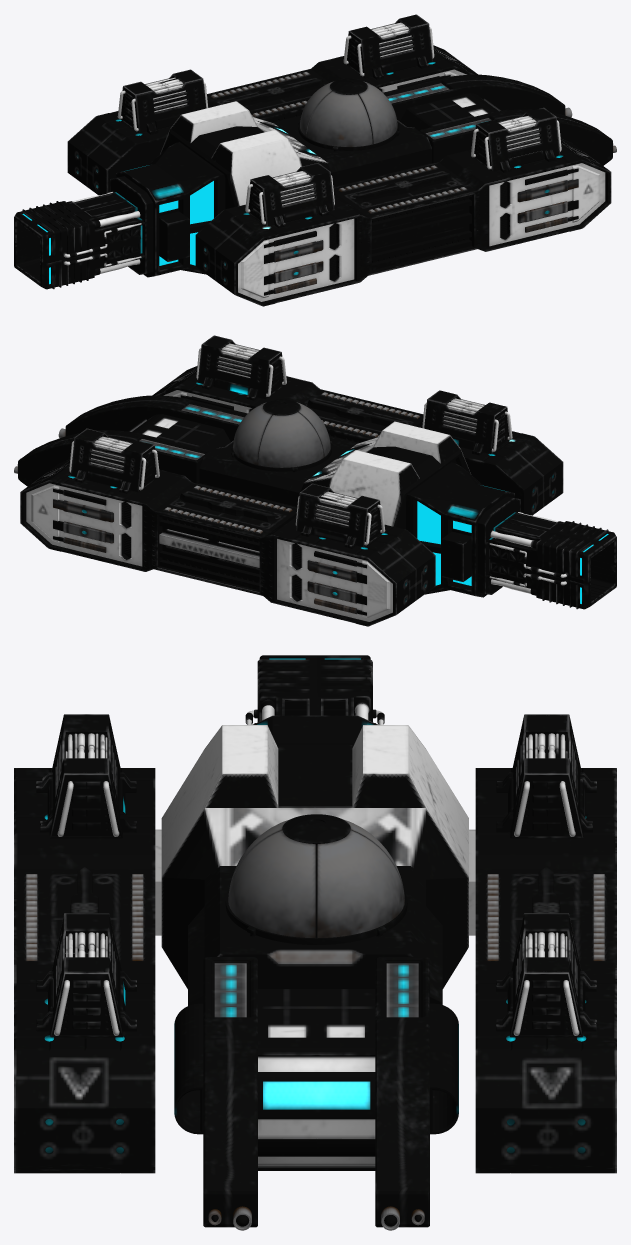
File: NVEEEEE.glb
3 renders of one model, top to bottom at view 1: azimuth 30°, elevation 25°; view 2: azimuth 150°, elevation 25°; view 3: azimuth 270°, elevation 25°, orthographic. The views are drawn at different scales.
Parts seen in each view (by area): view 1: Space_Ship_01; view 2: Space_Ship_01; view 3: Space_Ship_01.
Part boxes in pixels (x1,y1,x2,y2): Space_Ship_01: (14, 14, 616, 306); Space_Ship_01: (14, 335, 616, 626); Space_Ship_01: (14, 655, 616, 1230).
Size of the model in its own units: 42.54 by 11 by 21.8.
1 material, 1 textured.
